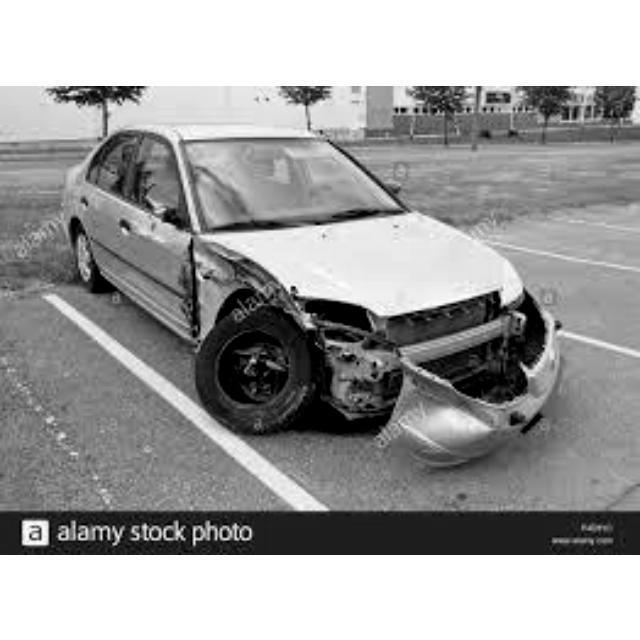doorouter-dent: (133, 203, 196, 334)
fender-dent: (191, 239, 310, 339)
front-bumper-dent: (372, 320, 613, 469)
